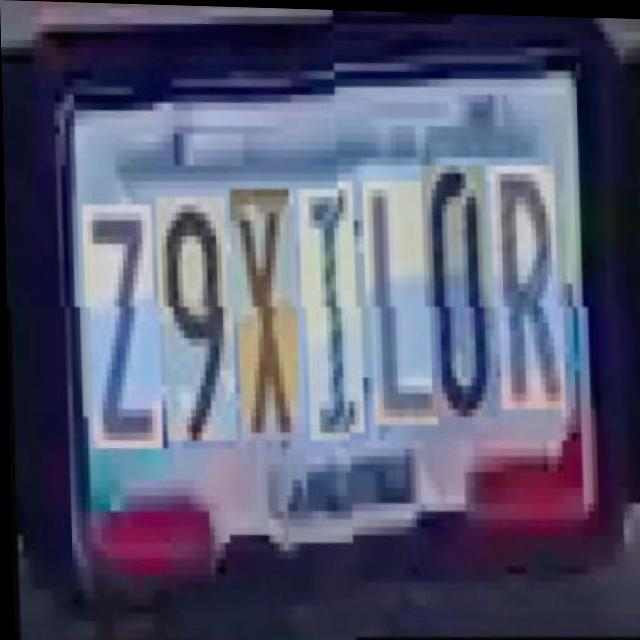0: (425, 172, 495, 427)
9: (159, 195, 234, 443)
i: (301, 189, 363, 442)
l: (366, 187, 435, 434)
r: (494, 172, 564, 419)
x: (233, 187, 298, 442)
z: (85, 203, 161, 450)
